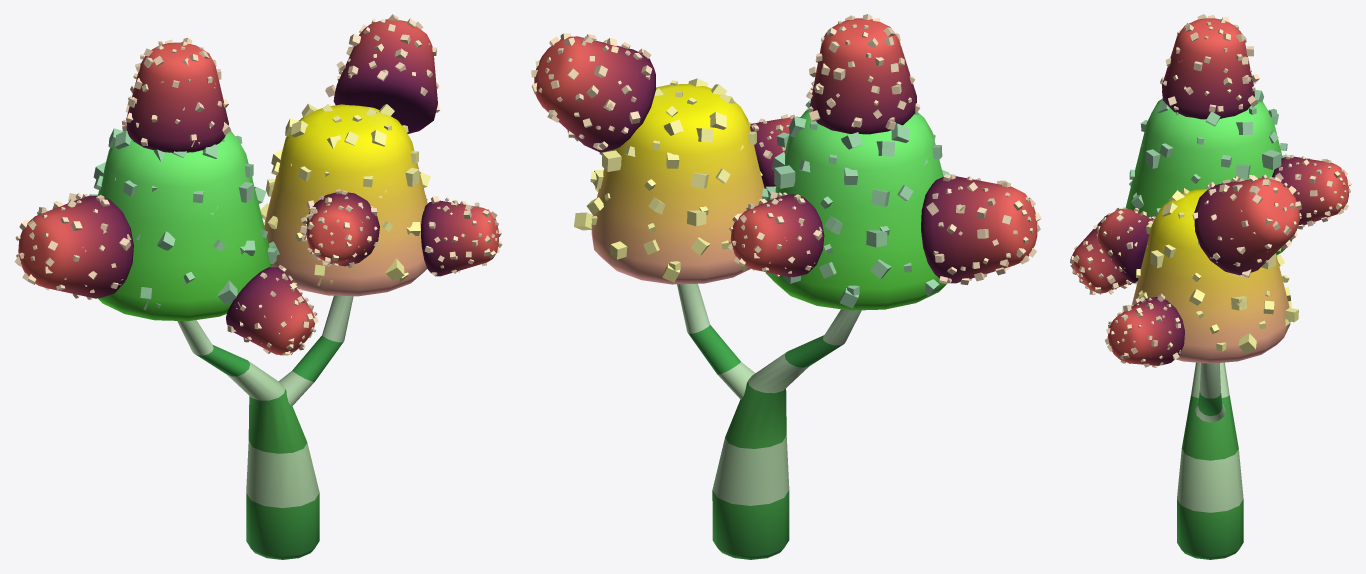
File: cw_tree_24.fbx
The picture shows the model from 3 angles, left to right: view 1: azimuth 30°, elevation 25°; view 2: azimuth 150°, elevation 25°; view 3: azimuth 270°, elevation 25°; orthographic projection. The views are drawn at different scales.
Visible parts, largest first — view 1: cw_t_24; view 2: cw_t_24; view 3: cw_t_24.
Part boxes in pixels (box(x1,y1,x2,y2)): cw_t_24: box(14, 14, 502, 559); cw_t_24: box(531, 14, 1041, 559); cw_t_24: box(1070, 14, 1351, 559).
Size of the model in its own units: 190 by 218 by 116.
